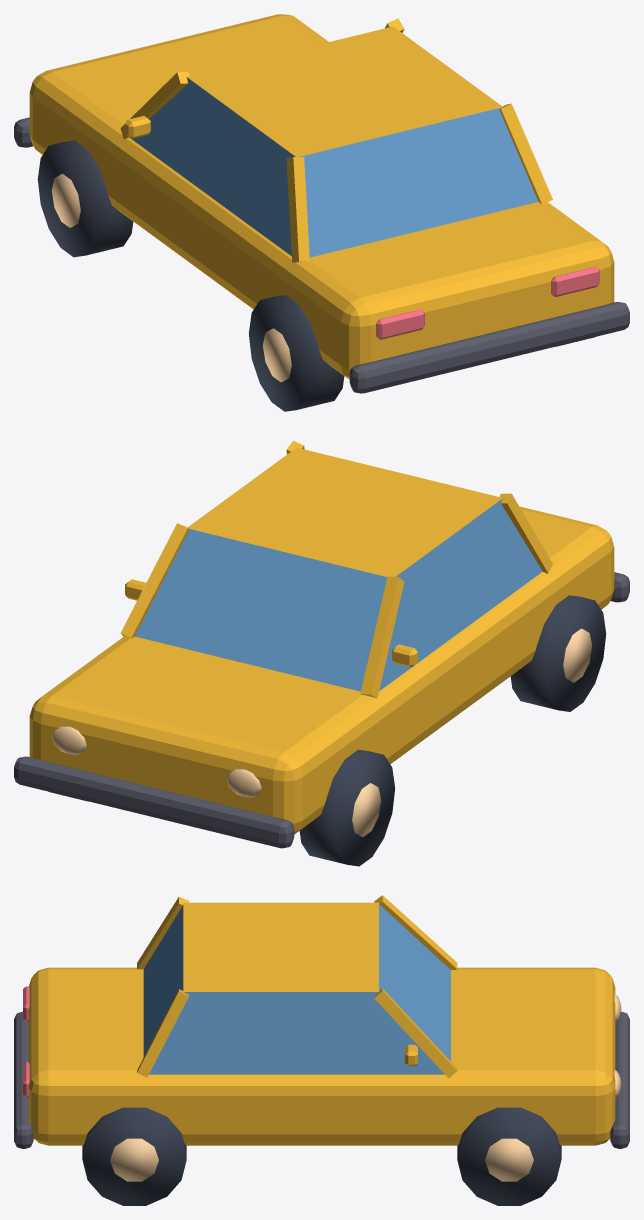
Rendered from car_yellow.glb.
3 views of the same model, one above another, from view 1: azimuth 30°, elevation 25°; view 2: azimuth 150°, elevation 25°; view 3: azimuth 270°, elevation 25° (orthographic). The views are drawn at different scales.
Parts seen in each view (by area): view 1: car, car_cabin, car_bumper1, car_wheel0, car_wheel2, car_cabin_post0, car_cabin_post1, car_hub2, car_hub0, car_tail1, car_tail0, car_cabin_post3; view 2: car_cabin, car, car_bumper0, car_wheel2, car_wheel0, car_cabin_post3, car_cabin_post2, car_cabin_post0, car_hub0, car_hub2, car_light1, car_light0; view 3: car, car_cabin, car_wheel1, car_wheel3, car_bumper0, car_bumper1, car_hub1, car_hub3, car_cabin_post2, car_cabin_post1, car_cabin_post3, car_cabin_post0.
Boxes of the visible parts, x1,y1,x2,y2 form: car: (29, 14, 614, 379); car_cabin: (129, 26, 538, 257); car_bumper1: (349, 302, 629, 393); car_wheel0: (37, 140, 133, 257); car_wheel2: (248, 295, 344, 411); car_cabin_post0: (286, 157, 309, 262); car_cabin_post1: (499, 103, 552, 204); car_hub2: (263, 328, 291, 382); car_hub0: (51, 174, 80, 227); car_tail1: (551, 266, 599, 296); car_tail0: (376, 309, 424, 339); car_cabin_post3: (120, 71, 189, 139); car_cabin: (135, 447, 542, 691); car: (29, 506, 614, 834); car_bumper0: (14, 756, 294, 848); car_wheel2: (510, 595, 606, 711); car_wheel0: (299, 749, 395, 866); car_cabin_post3: (360, 576, 404, 698); car_cabin_post2: (120, 523, 189, 638); car_cabin_post0: (499, 493, 552, 573); car_hub0: (352, 783, 381, 836); car_hub2: (563, 628, 592, 682); car_light1: (52, 726, 86, 754); car_light0: (227, 769, 261, 797); car: (28, 967, 615, 1145); car_cabin: (143, 902, 450, 1074); car_wheel1: (457, 1107, 561, 1205); car_wheel3: (82, 1107, 186, 1205); car_bumper0: (610, 1011, 629, 1148); car_bumper1: (14, 1011, 33, 1148); car_hub1: (485, 1138, 533, 1181); car_hub3: (110, 1138, 158, 1181); car_cabin_post2: (374, 988, 457, 1077); car_cabin_post1: (137, 989, 188, 1077); car_cabin_post3: (374, 895, 457, 969); car_cabin_post0: (137, 897, 188, 969).
Bounding box in the file's own units: 1.9 × 1.34 × 3.78.
